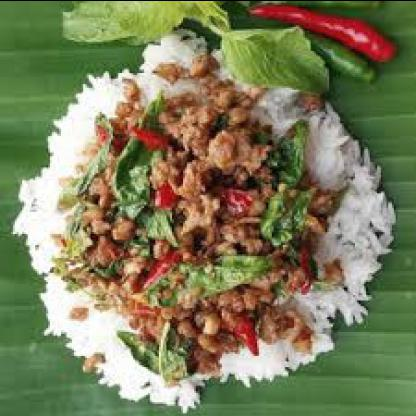Basil Rice: (35, 42, 398, 392)
